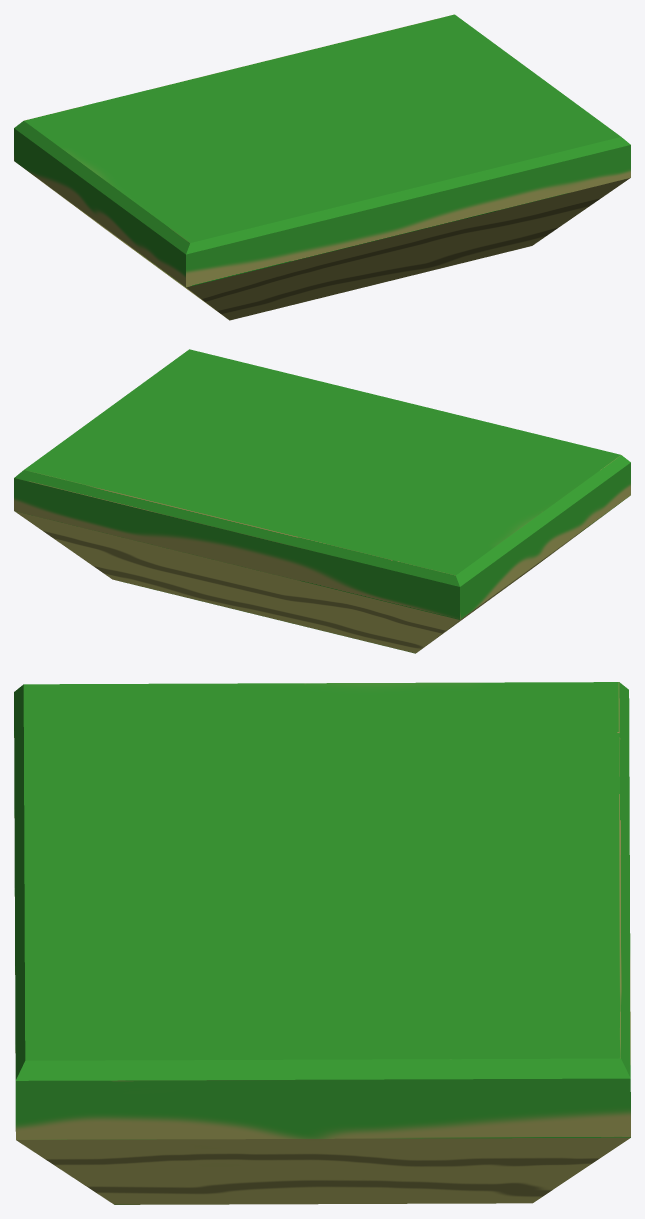
The model's file is plat3x2.obj.
The picture shows the model from 3 angles, top to bottom: view 1: azimuth 30°, elevation 25°; view 2: azimuth 150°, elevation 25°; view 3: azimuth 270°, elevation 25°; orthographic projection. The views are drawn at different scales.
Parts seen in each view (by area): view 1: Cube; view 2: Cube; view 3: Cube.
Boxes of the visible parts, bbox=[...] form: Cube: bbox=[14, 14, 630, 320]; Cube: bbox=[14, 349, 630, 653]; Cube: bbox=[14, 682, 630, 1204].
Bounding box in the file's own units: 6.01 × 1.99 × 4.01.
